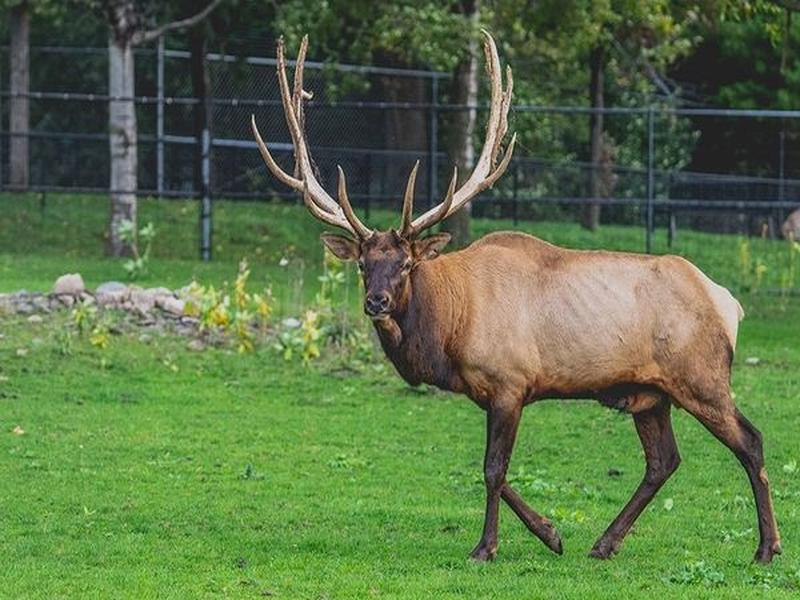elk: (249, 36, 785, 570)
